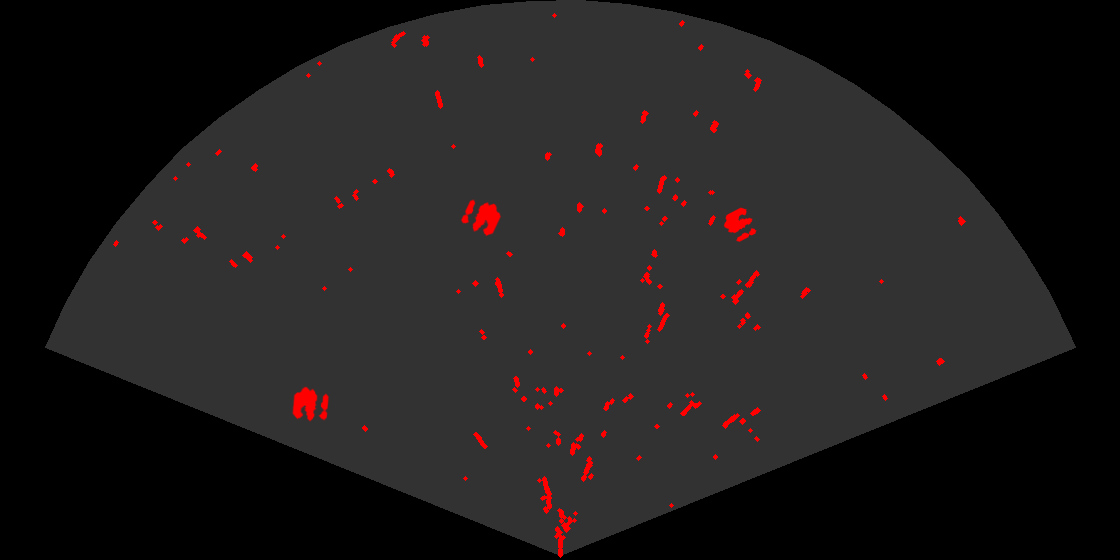ball: (459, 198, 503, 238), (291, 385, 330, 423), (722, 206, 758, 243)
